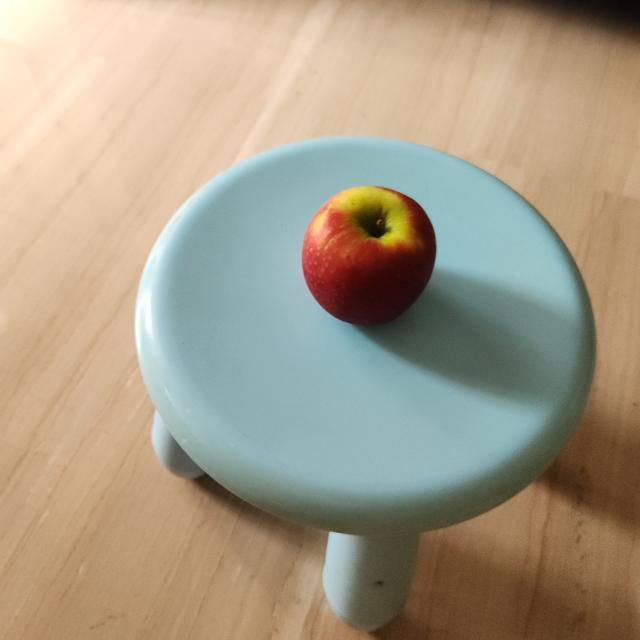apple: (298, 182, 437, 330)
